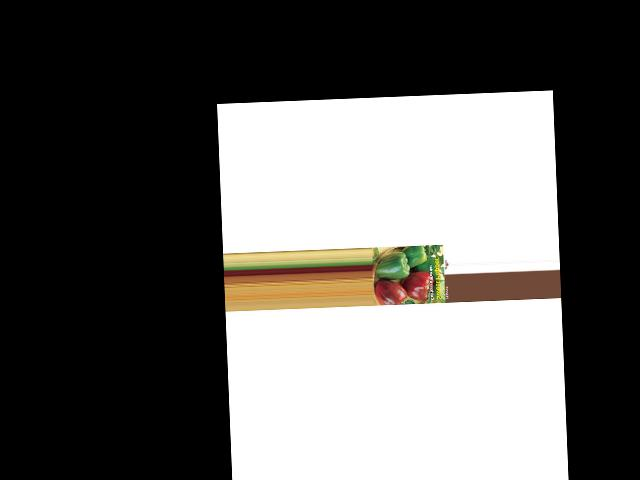bell_pepper: (398, 244, 429, 265)
